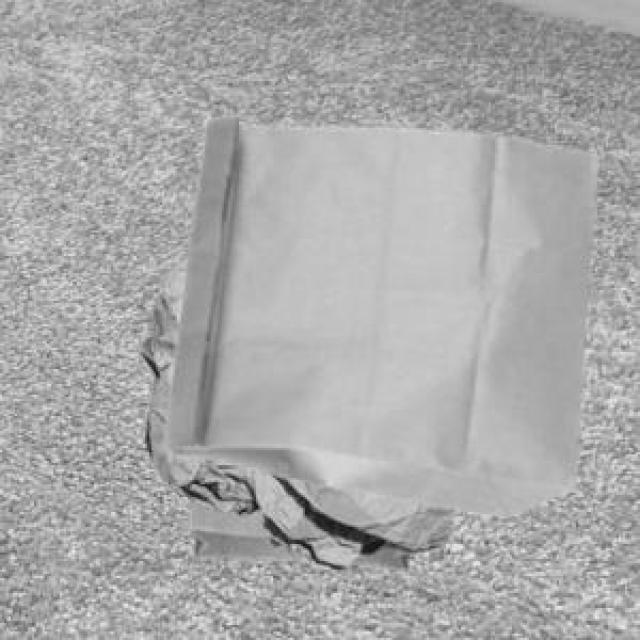paper: (160, 113, 593, 512), (134, 256, 450, 568), (184, 495, 403, 565)
